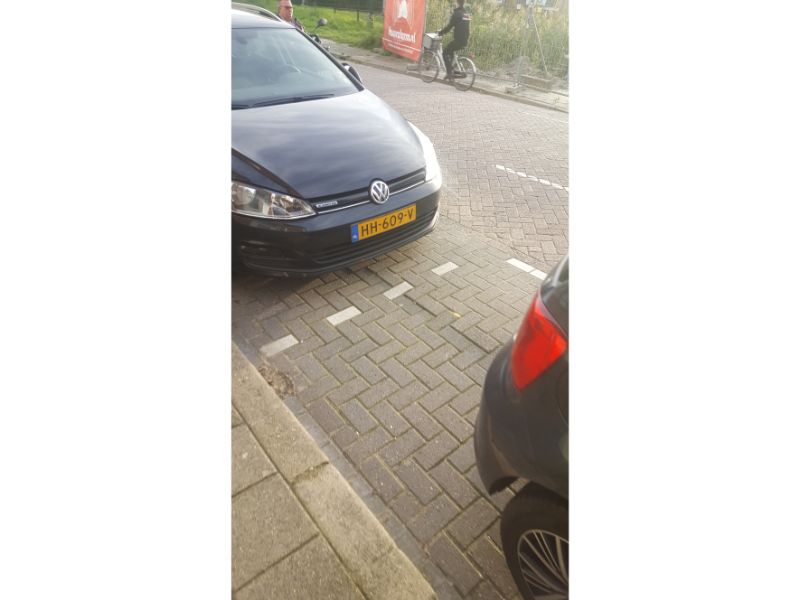kenteken: (351, 204, 418, 241)
